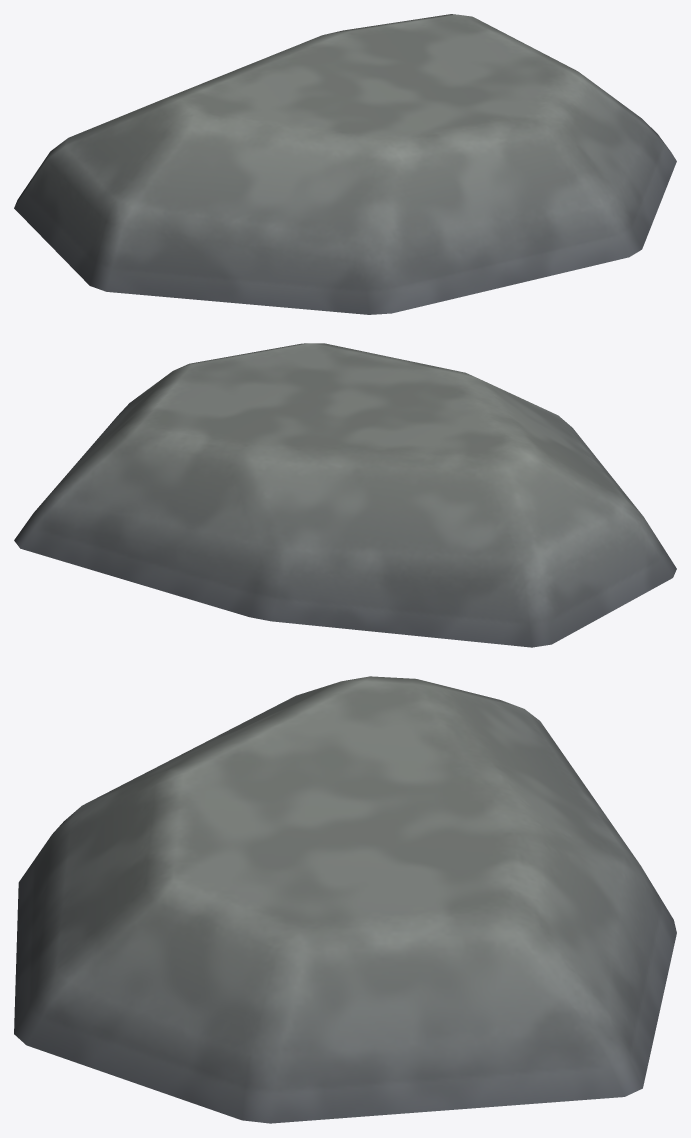
File: pebble_3.glb
The picture shows the model from 3 angles, top to bottom: view 1: azimuth 30°, elevation 25°; view 2: azimuth 150°, elevation 25°; view 3: azimuth 270°, elevation 25°; orthographic projection. The views are drawn at different scales.
Visible parts, largest first — view 1: pebble_3; view 2: pebble_3; view 3: pebble_3.
Part boxes in pixels (x1=…): pebble_3: x1=14, y1=14, x2=676, y2=314; pebble_3: x1=14, y1=343, x2=676, y2=647; pebble_3: x1=14, y1=676, x2=676, y2=1123.
Bounding box in the file's own units: 0.5 × 0.1 × 0.38.
1 material, 1 textured.
